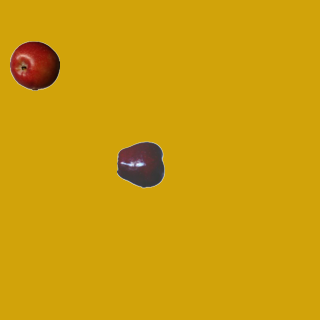Apple Braeburn: (9, 40, 59, 90)
Apple Red Delicious: (116, 139, 166, 189)
